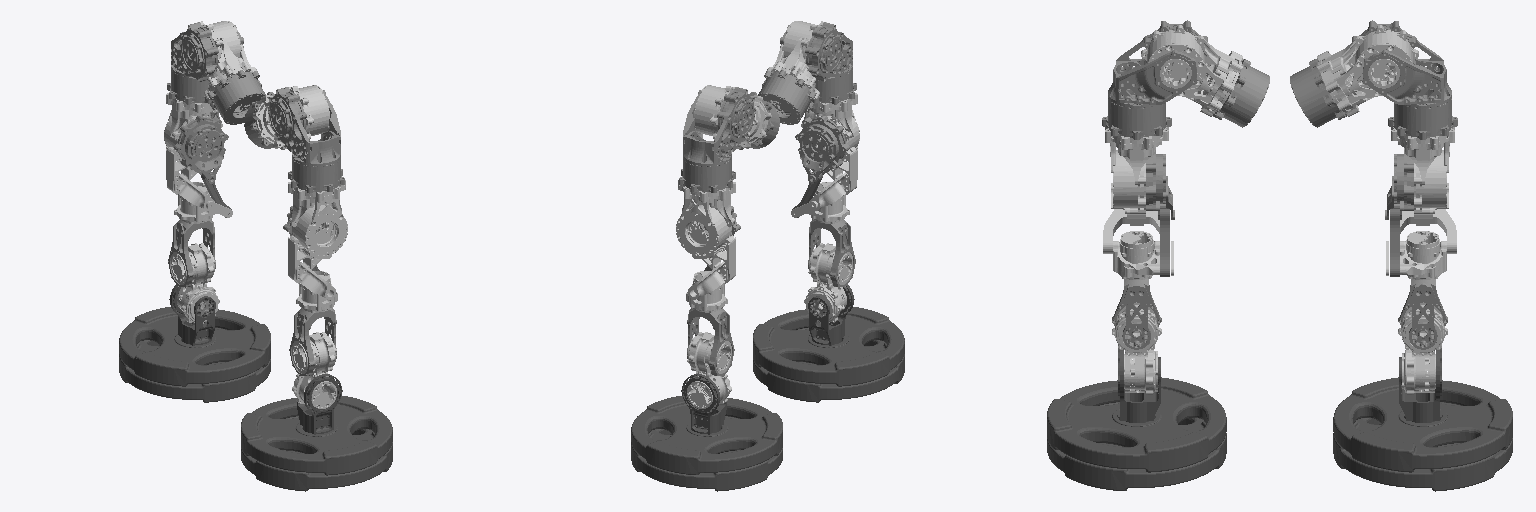
--- Facts derived from the render (not from the file) ---
3 views of the same robot in one strip: view 1: azimuth 30°, elevation 25°; view 2: azimuth 150°, elevation 25°; view 3: azimuth 270°, elevation 25° (orthographic).
Robot: raipal_stub-10 — 30 links, 29 joints (18 revolute, 11 fixed); root link world; default pose: every joint at zero.
Links seen in each view (by area): view 1: R_stub, L_stub, R_shoulder, R_humerus, L_shoulder, L_humerus, L_elb_input, R_carpal, L_carpal, L_base, R_collar, L_collar (+5 smaller); view 2: L_stub, R_stub, L_shoulder, L_humerus, R_shoulder, R_humerus, R_elb_input, L_carpal, R_carpal, R_base, L_collar, R_collar (+5 smaller); view 3: L_stub, R_stub, L_shoulder, R_shoulder, R_collar, L_collar, R_humerus, L_humerus, R_carpal, L_carpal, R_ulna, L_ulna (+8 smaller).
Boxes of the visible links, left/top/right/bottom form: R_stub: left=241, top=374, right=392, bottom=491; L_stub: left=119, top=285, right=270, bottom=402; R_shoulder: left=268, top=87, right=344, bottom=193; R_humerus: left=288, top=180, right=347, bottom=299; L_shoulder: left=167, top=22, right=243, bottom=104; L_humerus: left=164, top=93, right=222, bottom=210; L_elb_input: left=174, top=116, right=228, bottom=183; R_carpal: left=292, top=332, right=336, bottom=408; L_carpal: left=171, top=243, right=219, bottom=323; L_base: left=208, top=70, right=265, bottom=124; R_collar: left=252, top=85, right=329, bottom=148; L_collar: left=197, top=21, right=256, bottom=100; L_stub: left=631, top=374, right=782, bottom=491; R_stub: left=753, top=285, right=904, bottom=402; L_shoulder: left=679, top=87, right=755, bottom=192; L_humerus: left=676, top=180, right=735, bottom=299; R_shoulder: left=780, top=22, right=856, bottom=104; R_humerus: left=801, top=93, right=859, bottom=210; R_elb_input: left=795, top=116, right=849, bottom=183; L_carpal: left=687, top=332, right=731, bottom=408; R_carpal: left=804, top=243, right=852, bottom=323; R_base: left=758, top=70, right=815, bottom=124; L_collar: left=694, top=85, right=771, bottom=148; R_collar: left=767, top=21, right=826, bottom=100; L_stub: left=1333, top=348, right=1512, bottom=491; R_stub: left=1047, top=348, right=1226, bottom=490; L_shoulder: left=1352, top=20, right=1457, bottom=139; R_shoulder: left=1102, top=20, right=1207, bottom=139; R_collar: left=1141, top=25, right=1242, bottom=116; L_collar: left=1317, top=25, right=1418, bottom=116; R_humerus: left=1103, top=127, right=1168, bottom=253; L_humerus: left=1391, top=127, right=1456, bottom=253; R_carpal: left=1112, top=303, right=1161, bottom=394; L_carpal: left=1398, top=303, right=1447, bottom=394; R_ulna: left=1113, top=231, right=1173, bottom=279; L_ulna: left=1386, top=231, right=1446, bottom=279.
Bounding box of the posed robot: 0.276 × 0.716 × 0.7385 m (x, y, z).
Meshes: 21 distinct files referenced, 22 mesh visuals loaded (21 binary STL).

URDF robot description (raipal_stub-10):
<?xml version="1.0" encoding="utf-8"?>
<robot name="raipal_stub-10">
  <!-- [URDF-WRITER] Created with urdf-writer script (by CHH) on 2026-01-27 21:55:36.760560-->

  <!-- [URDF-WRITER] from module [_fixed-base] -->

  <!-- this link makes the robot fixed-base in RAISIM -->
  <link name="world"></link>

  <link name="base"></link>

  <joint name="base_fix" type="fixed">
    <origin xyz="0 0 0.8" rpy="0 0 0"/>
    <parent link="world" />
    <child link="base" />
    <axis xyz="0 0 0" />
  </joint>


  <!-- [URDF-WRITER] from module [raipal_R] -->

  <link name="R_base">
    <!-- CHH / 2025-09-01-20:14 -->
    <!-- link name: [R_base]-->
    <!-- frame: [R0_base]-->
    <inertial>
      <origin 
        xyz="-0.00013000 -0.06389000 -0.05559000"
        rpy="0 0 0" />
      <mass value="0.79658000" />
      <inertia
          ixx="0.00074742"
          ixy="1.892780e-6"
          ixz="-1.179560e-6"
          iyy="0.00098187"
          iyz="-0.00013334"
          izz="0.00082394" />
    </inertial>
    <visual>
      <origin
        xyz="0 0 0"
        rpy="0 0 0" />
      <geometry>
        <mesh filename="../meshes/R_base.STL" />
      </geometry>
      <material name="">
        <color rgba=".6 .6 .6 1" />
      </material>
    </visual>
    <!--<collision>
      <origin
        xyz="0 0 0"
        rpy="0 0 0" />
      <geometry>
        <mesh filename="../meshes/R_base.STL" />
      </geometry>
    </collision>-->
  </link>

  <joint name="R_fix" type="fixed">
    <origin xyz="0 0 0" rpy="0 0 0"/>
    <parent link="base" />
    <child link="R_base" />
    <axis xyz="0 0 0" />
  </joint>

  <link name="R_collar">
    <!-- CHH / 2025-09-01-20:14 -->
    <!-- link name: [R_collar]-->
    <!-- frame: [R1_flexion]-->
    <inertial>
      <origin 
        xyz="0.00471000 -1.000000e-5 0.10057000"
        rpy="0 0 0" />
      <mass value="1.72283000" />
      <inertia
          ixx="0.00466072"
          ixy="5.127800e-7"
          ixz="-0.00028338"
          iyy="0.00434837"
          iyz="8.010400e-7"
          izz="0.00167296" />
    </inertial>
    <visual>
      <origin
        xyz="0 0 0"
        rpy="0 0 0" />
      <geometry>
        <mesh filename="../meshes/R_collar.STL" />
      </geometry>
      <material name="">
        <color rgba="0.8 0.8 0.8 1" />
      </material>
    </visual>
    <!--<collision>
      <origin
        xyz="0 0 0"
        rpy="0 0 0" />
      <geometry>
        <mesh filename="../meshes/R_collar.STL" />
      </geometry>
    </collision>-->
  </link>

  <joint name="R1_flexion" type="revolute"> <!--[0]-->
    <origin
      xyz="0 -0.037198 -0.0709"
      rpy="1.0472 0 0" />
    <parent link="R_base" />
    <child link="R_collar" />
    <axis
      xyz="0 0 1" />
    <limit
      lower="-1.57"
      upper="3.14"
      effort="181"
      velocity="13.9" />
    <dynamics rotor_inertia = "0.0576402034658611" /> <!-- CHH / 2025-09-01-20:30-->
  </joint>

  <link name="R_shoulder">
    <!-- CHH / 2025-09-01-20:14 -->
    <!-- link name: [R_shoulder]-->
    <!-- frame: [R2_adduction]-->
    <inertial>
      <origin 
        xyz="-0.03309000 0.04277000 0.04408000"
        rpy="0 0 0" />
      <mass value="1.92988000" />
      <inertia
          ixx="0.00554587"
          ixy="0.00224326"
          ixz="-0.00046924"
          iyy="0.00422168"
          iyz="0.00058524"
          izz="0.00699049" />
    </inertial>
    <visual>
      <origin
        xyz="0 0 0"
        rpy="0 0 0" />
      <geometry>
        <mesh filename="../meshes/R_shoulder.STL" />
      </geometry>
      <material name="">
        <color rgba="0.6 0.6 0.6 1" />
      </material>
    </visual>
    <!--<collision>
      <origin
        xyz="0 0 0"
        rpy="0 0 0" />
      <geometry>
        <mesh filename="../meshes/R_shoulder.STL" />
      </geometry>
    </collision>-->
  </link>

  <joint name="R2_adduction" type="revolute"> <!--[1]-->
    <origin
      xyz="0.0373 0 0.1418"
      rpy="-1.5707963267949 1.0472 1.5707963267949" />
    <parent link="R_collar" />
    <child link="R_shoulder" />
    <axis
      xyz="0 0 -1" />
    <limit
      lower="-2.618"
      upper="0.488"
      effort="181"
      velocity="13.9" />
    <dynamics rotor_inertia = "0.0576402034658611" /> <!-- CHH / 2025-09-01-20:30-->
  </joint>

  <link name="R_humerus">
    <!-- CHH / 2025-09-01-20:14 -->
    <!-- link name: [R_humerus]-->
    <!-- frame: [R3_rotation]-->
    <inertial>
      <origin 
        xyz="-0.00369000 0.00351000 0.11625000"
        rpy="0 0 0" />
      <mass value="1.96262000" />
      <inertia
          ixx="0.00777442"
          ixy="-1.197057e-5"
          ixz="0.00065917"
          iyy="0.00822155"
          iyz="-0.00015972"
          izz="0.00201683" />
    </inertial>
    <visual>
      <origin
        xyz="0 0 0"
        rpy="0 0 0" />
      <geometry>
        <mesh filename="../meshes/R_humerus.STL" />
      </geometry>
      <material name="">
        <color rgba="0.8 0.8 0.8 1" />
      </material>
    </visual>
    <!--<collision>
      <origin
        xyz="0 0 0"
        rpy="0 0 0" />
      <geometry>
        <mesh filename="../meshes/R_humerus.STL" />
      </geometry>
    </collision>-->
  </link>

  <joint name="R3_rotation" type="revolute"> <!--[2]-->
    <origin
      xyz="-0.06 0.06025 0.0373"
      rpy="-1.5707963267949 1.5707963267949 0" />
    <parent link="R_shoulder" />
    <child link="R_humerus" />
    <axis
      xyz="0 0 -1" />
    <limit
      lower="-3.14"
      upper="3.14"
      effort="181"
      velocity="13.9" />
    <dynamics rotor_inertia = "0.0576402034658611" /> <!-- CHH / 2025-09-01-20:30-->
  </joint>

  <link name="R_elb_input">
    <!-- CHH / 2025-09-01-20:14 -->
    <!-- link name: [R_elb_input]-->
    <!-- frame: [R4a_elbow_power]-->
    <inertial>
      <origin 
        xyz="-2.000000e-5 0.00335000 0.05897000"
        rpy="0 0 0" />
      <mass value="0.83412000" />
      <inertia
          ixx="0.00071114"
          ixy="7.660000e-7"
          ixz="-9.255500e-7"
          iyy="0.00059983"
          iyz="-5.504818e-5"
          izz="0.00080767" />
    </inertial>
    <visual>
      <origin
        xyz="0 0 0"
        rpy="0 0 0" />
      <geometry>
        <mesh filename="../meshes/R_elb_input.STL" />
      </geometry>
      <material name="">
        <color rgba="0.6 0.6 0.6 1" />
      </material>
    </visual>
    <!--<collision>
      <origin
        xyz="0 0 0"
        rpy="0 0 0" />
      <geometry>
        <mesh filename="../meshes/R_elb_input.STL" />
      </geometry>
    </collision>-->
  </link>

  <joint name="R4a_elbow_power" type="revolute"> <!--[3]-->
    <origin
      xyz="0 0.0373 0.1418"
      rpy="1.5707963267949 0 0" />
    <parent link="R_humerus" />
    <child link="R_elb_input" />
    <axis
      xyz="0 0 1" />
    <limit
      lower="0"
      upper="1.556"
      effort="181"
      velocity="13.9" />
    <dynamics rotor_inertia = "0.0576402034658611" /> <!-- CHH / 2025-09-01-20:30-->
  </joint>

  <link name="R_elb_bar">
    <!-- CHH / 2025-09-01-20:14 -->
    <!-- link name: [R_elb_bar]-->
    <!-- frame: [R4b_elbow_bar_input]-->
    <inertial>
      <origin 
        xyz="0.04274000 0.00159000 -4.000000e-5"
        rpy="0 0 0" />
      <mass value="0.05314000" />
      <inertia
          ixx="2.335610e-6"
          ixy="0.0"
          ixz="0.0"
          iyy="6.149582e-5"
          iyz="-3.110000e-9"
          izz="6.199993e-5" />
    </inertial>
    <visual>
      <origin
        xyz="0 0 0"
        rpy="0 0 0" />
      <geometry>
        <mesh filename="../meshes/R_elb_bar.STL" />
      </geometry>
      <material name="">
        <color rgba="0.5 0.5 0.5 1" />
      </material>
    </visual>
    <!--<collision>
      <origin
        xyz="0 0 0"
        rpy="0 0 0" />
      <geometry>
        <mesh filename="../meshes/R_elb_bar.STL" />
      </geometry>
    </collision>-->
  </link>

  <joint name="R4b_elbow_bar_input" type="revolute"> <!--[4-unpowered]-->
    <origin
      xyz="0.00134978286029327 0.0599848154638326 0.0812119041053838"
      rpy="0 0 1.12941902735751" />
    <parent link="R_elb_input" />
    <child link="R_elb_bar" />
    <axis
      xyz="0 0 -1" />
    <limit
      lower="0"
      upper="1.802"
      effort="0"
      velocity="100" />
  </joint>

  <link name="R_ulna">
    <!-- CHH / 2025-09-01-20:14 -->
    <!-- link name: [R_ulna]-->
    <!-- frame: [R4_elbow]-->
    <inertial>
      <origin 
        xyz="0.00533000 0.01576000 -0.03891000"
        rpy="0 0 0" />
      <mass value="0.36947000" />
      <inertia
          ixx="0.00032310"
          ixy="-1.385696e-5"
          ixz="-4.244104e-5"
          iyy="0.00036383"
          iyz="-5.919040e-6"
          izz="0.00020708" />
    </inertial>
    <visual>
      <origin
        xyz="0 0 0"
        rpy="0 0 0" />
      <geometry>
        <mesh filename="../meshes/R_ulna.STL" />
      </geometry>
      <material name="">
        <color rgba="0.8 0.8 0.8 1" />
      </material>
    </visual>
    <!--<collision>
      <origin
        xyz="0 0 0"
        rpy="0 0 0" />
      <geometry>
        <mesh filename="../meshes/R_ulna.STL" />
      </geometry>
    </collision>-->
  </link>

  <joint name="R4_elbow" type="revolute"> <!--[5-unpowered]-->
    <origin
      xyz="0 -0.0439119041053754 0.25475"
      rpy="1.5707963267949 0 0" />
    <parent link="R_humerus" />
    <child link="R_ulna" />
    <axis
      xyz="0 0 -1" />
    <limit
      lower="0"
      upper="2.2689"
      effort="0"
      velocity="100" />
  </joint>

  <link name="R_radius">
    <!-- CHH / 2025-09-01-20:14 -->
    <inertial>
      <origin 
        xyz="0.00151000 0.0 0.10290000"
        rpy="0 0 0" />
      <mass value="0.42307000" />
      <inertia
          ixx="0.00112662"
          ixy="-1.975000e-8"
          ixz="-5.589578e-5"
          iyy="0.00120471"
          iyz="1.556000e-8"
          izz="0.00024138" />
    </inertial>
    <visual>
      <origin
        xyz="0 0 0"
        rpy="0 0 0" />
      <geometry>
        <mesh filename="../meshes/R_radius.STL" />
      </geometry>
      <material name="">
        <color rgba="0.6 0.6 0.6 1" />
      </material>
    </visual>
    <!--</collision>
      <origin
        xyz="0 0 0"
        rpy="0 0 0" />
      <geometry>
        <mesh filename="../meshes/R_radius.STL" />
      </geometry>
    </collision>-->
  </link>

  <joint name="R5_roll" type="revolute">  <!--[6]-->
    <origin
      xyz="0 -0.0135819531869474 -0.0439119041053754"
      rpy="-1.5707963267949 0 0" />
    <parent link="R_ulna" />
    <child link="R_radius" />
    <axis
      xyz="0 0 -1" />
    <limit
      lower="-1.57"
      upper="1.57"
      effort="12.61"
      velocity="53.8" />
    <dynamics rotor_inertia = "0.000540543349430043" /> <!-- CHH / 2025-09-01-20:30-->
  </joint>

  <link name="R_carpal">
    <!-- CHH / 2025-09-01-20:14 -->
    <inertial>
      <origin 
        xyz="-0.00117000 0.03421000 0.02964000"
        rpy="0 0 0" />
      <mass value="0.67981000" />
      <inertia
          ixx="0.00128813"
          ixy="3.134577e-5"
          ixz="3.268690e-6"
          iyy="0.00040998"
          iyz="-9.323146e-5"
          izz="0.00126953" />
    </inertial>
    <visual>
      <origin
        xyz="0 0 0"
        rpy="0 0 0" />
      <geometry>
        <mesh filename="../meshes/R_carpal.STL" />
      </geometry>
      <material name="">
        <color rgba="0.8 0.8 0.8 1" />
      </material>
    </visual>
    <!--</collision>
      <origin
        xyz="0 0 0"
        rpy="0 0 0" />
      <geometry>
        <mesh filename="../meshes/R_carpal.STL" />
      </geometry>
    </collision>-->
  </link>

  <joint name="R6_pitch" type="revolute">  <!--[7]-->
    <origin
      xyz="-0.0337 0 0.153581953186935"
      rpy="1.5707963267949 0 1.5707963267949" />
    <parent link="R_radius" />
    <child link="R_carpal" />
    <axis
      xyz="0 0 1" />
    <limit
      lower="-2.0944"
      upper="2.0944"
      effort="12.61"
      velocity="53.8" />
    <dynamics rotor_inertia = "0.000540543349430043" /> <!-- CHH / 2025-09-01-20:30-->
  </joint>

  <link name="R_ee">
    <!-- CHH / 2025-09-01-20:14 -->
    <inertial>
      <origin 
        xyz="0.0 0.0 0.04531000"
        rpy="0 0 0" />
      <mass value="0.13143000" />
      <inertia
          ixx="3.339173e-5"
          ixy="0.0"
          ixz="0.0"
          iyy="3.339173e-5"
          iyz="0.0"
          izz="4.133016e-5" />
    </inertial>
    <visual>
      <origin
        xyz="0 0 0"
        rpy="0 0 0" />
      <geometry>
        <mesh filename="../meshes/R_ee.STL" />
      </geometry>
      <material name="">
        <color rgba="0.6 0.6 0.6 1" />
      </material>
    </visual>
    <!--</collision>
      <origin
        xyz="0 0 0"
        rpy="0 0 0" />
      <geometry>
        <mesh filename="../meshes/R_ee.STL" />
      </geometry>
    </collision>-->
  </link>

  <joint name="R7_yaw" type="revolute">  <!--[8]-->
    <origin
      xyz="0.0264 0.073 0.0337"
      rpy="0 -1.5707963267949 0" />
    <parent link="R_carpal" />
    <child link="R_ee" />
    <axis
      xyz="0 0 -1" />
    <limit
      lower="-1.57079"
      upper="1.57079"
      effort="12.61"
      velocity="53.8" />
    <dynamics rotor_inertia = "0.000540543349430043" /> <!-- CHH / 2025-09-01-20:30-->
  </joint>

  <!-- Imaginary links for loop closure -->
  <link name="R_loop_barside"></link>

  <joint name="R4cA_elbow_loop_bar" type="fixed">
    <origin
      xyz="0.0854747786370337 0 0"
      rpy="0 0 0" />
    <parent link="R_elb_bar" />
    <child link="R_loop_barside" />
    <axis
      xyz="0 0 1" />
    <!-- relaxed limits since others are constrained -->
    <limit
      lower="-3.14"
      upper="3.14"
      effort="0"
      velocity="100" />
  </joint>

  <link name="R_loop_ulnaside"></link>

  <joint name="R4cB_elbow_loop_ulna_fixed" type="fixed">
    <origin
      xyz="0.0378633410992504 0.0243180468130526 0"
      rpy="0 0 1.12941902735751" />
    <parent link="R_ulna" />
    <child link="R_loop_ulnaside" />
    <axis
      xyz="0 0 0" />
  </joint>

  
  <!-- [URDF-WRITER] from module [stub-10_R] -->
  <link name="R_stub">
    <!-- CHH / 2025-10-17-16:12 -->
    <!-- link name: [stub-10]-->
    <!-- frame: [RE_end-effector]-->
    <inertial>
      <origin 
        xyz="4.000000e-5 -0.10515000 0.02631000"
        rpy="0 0 0" />
      <mass value="10.52298000" />
      <inertia
          ixx="0.05836641"
          ixy="1.193012e-5"
          ixz="-3.170800e-7"
          iyy="0.10652337"
          iyz="0.00011810"
          izz="0.05832640" />
    </inertial>
    <visual>
      <origin
        xyz="0 0 0"
        rpy="0 0 0" />
      <geometry>
        <mesh filename="../meshes/stub_10.STL" />
      </geometry>
      <material name="">
        <color rgba="0.4 0.4 0.4 1" />
      </material>
    </visual>
  </link>

  <joint name="RE_end_effector_fixed" type="fixed">
    <origin
      xyz="0 0 0"
      rpy="0 0 3.141592" />
    <parent link="R_ee" />
    <child link="R_stub" />
    <axis
      xyz="0 0 0" />
  </joint>


  <link name="R_stub-tip"></link>

  <joint name="RE_tip_fixed" type="fixed">
    <origin
      xyz="0 -0.157 0.0264"
      rpy="-1.5708 0 3.141592" />
    <parent link="R_stub" />
    <child link="R_stub-tip" />
    <axis
      xyz="0 0 0" />
  </joint>
  <!-- [URDF-WRITER] from module [raipal_L] -->

  <link name="L_base">
    <!-- CHH / 2025-09-01-20:14 -->
    <!-- mirrored from [L_base] (frame: R0_base)-->
    <inertial>
      <origin 
        xyz="-0.00013000 0.06389000 -0.05559000"
        rpy="0 0 0" />
      <mass value="0.79658000" />
      <inertia
          ixx="0.00074742"
          ixy="-1.892780e-6"
          ixz="-1.179560e-6"
          iyy="0.00098187"
          iyz="0.00013334"
          izz="0.00082394" />
    </inertial>
    <visual>
      <origin
        xyz="0 0 0"
        rpy="0 0 0" />
      <geometry>
        <mesh filename="../meshes/L_base.STL" />
      </geometry>
      <material name="">
        <color rgba=".6 .6 .6 1" />
      </material>
    </visual>
    <!--</collision>
      <origin
        xyz="0 0 0"
        rpy="0 0 0" />
      <geometry>
        <mesh filename="../meshes/L_base.STL" />
      </geometry>
    </collision>-->
  </link>

  <joint name="L_fix" type="fixed">
    <origin xyz="0 0 0" rpy="0 0 0"/>
    <parent link="base" />
    <child link="L_base" />
    <axis xyz="0 0 0" />
  </joint>

  <link name="L_collar">
    <!-- CHH / 2025-09-01-20:14 -->
    <!-- mirrored from [L_collar] (frame: R1_flexion)-->
    <inertial>
      <origin 
        xyz="0.00471000 1.000000e-5 0.10057000"
        rpy="0 0 0" />
      <mass value="1.72283000" />
      <inertia
          ixx="0.00466072"
          ixy="-5.127800e-7"
          ixz="-0.00028338"
          iyy="0.00434837"
          iyz="-8.010400e-7"
          izz="0.00167296" />
    </inertial>
    <visual>
      <origin
        xyz="0 0 0"
        rpy="0 0 0" />
      <geometry>
        <mesh filename="../meshes/L_collar.STL" />
      </geometry>
      <material name="">
        <color rgba="0.8 0.8 0.8 1" />
      </material>
    </visual>
    <!--</collision>
      <origin
        xyz="0 0 0"
        rpy="0 0 0" />
      <geometry>
        <mesh filename="../meshes/L_collar.STL" />
      </geometry>
    </collision>-->
  </link>

  <joint name="L1_flexion" type="revolute"> <!--[0]-->
    <origin
      xyz="0 0.037198 -0.0709"
      rpy="-1.0472 0 0" />
    <parent link="L_base" />
    <child link="L_collar" />
    <axis
      xyz="0 0 -1" />
    <limit
      lower="-1.57"
      upper="3.14"
      effort="181"
      velocity="13.9" />
    <dynamics rotor_inertia = "0.0576402034658611" />
    <!-- Calculated by CHH on 2025-09-01-20:14-->  
  </joint>

  <link name="L_shoulder">
    <!-- CHH / 2025-09-01-20:14 -->
    <!-- mirrored from [L_shoulder] (frame: R2_adduction)-->
    <inertial>
      <origin 
        xyz="-0.03309000 -0.04277000 0.04408000"
        rpy="0 0 0" />
      <mass value="1.92988000" />
      <inertia
          ixx="0.00554587"
          ixy="-0.00224326"
          ixz="-0.00046924"
          iyy="0.00422168"
          iyz="-0.00058524"
          izz="0.00699049" />
    </inertial>
    <visual>
      <origin
        xyz="0 0 0"
        rpy="0 0 0" />
      <geometry>
        <mesh filename="../meshes/L_shoulder.STL" />
      </geometry>
      <material name="">
        <color rgba="0.6 0.6 0.6 1" />
      </material>
    </visual>
    <!--</collision>
      <origin
        xyz="0 0 0"
        rpy="0 0 0" />
      <geometry>
        <mesh filename="../meshes/L_shoulder.STL" />
      </geometry>
    </collision>-->
  </link>

  <joint name="L2_adduction" type="revolute"> <!--[1]-->
    <origin
      xyz="0.0373 0 0.1418"
      rpy="1.5707963267949 1.0472 -1.5707963267949" />
    <parent link="L_collar" />
    <child link="L_shoulder" />
    <axis
      xyz="0 0 1" />
    <limit
      lower="-2.618"
      upper="0.488"
      effort="181"
      velocity="13.9" />
    <dynamics rotor_inertia = "0.0576402034658611" /> <!-- CHH / 2025-09-01-20:30-->
  </joint>

  <link name="L_humerus">
    <!-- CHH / 2025-09-01-20:14 -->
    <!-- mirrored from [L_humerus] (frame: R3_rotation)-->
    <inertial>
      <origin 
        xyz="-0.00369000 -0.00351000 0.11625000"
        rpy="0 0 0" />
      <mass value="1.96262000" />
      <inertia
          ixx="0.00777442"
          ixy="1.197057e-5"
          ixz="0.00065917"
          iyy="0.00822155"
          iyz="0.00015972"
          izz="0.00201683" />
    </inertial>
    <visual>
      <origin
        xyz="0 0 0"
        rpy="0 0 0" />
      <geometry>
        <mesh filename="../meshes/L_humerus.STL" />
      </geometry>
      <material name="">
        <color rgba="0.8 0.8 0.8 1" />
      </material>
    </visual>
    <!--</collision>
      <origin
        xyz="0 0 0"
        rpy="0 0 0" />
      <geometry>
        <mesh filename="../meshes/L_humerus.STL" />
      </geometry>
    </collision>-->
  </link>

  <joint name="L3_rotation" type="revolute"> <!--[2]-->
    <origin
      xyz="-0.06 -0.06025 0.0373"
      rpy="1.5707963267949 1.5707963267949 0" />
    <parent link="L_shoulder" />
    <child link="L_humerus" />
    <axis
      xyz="0 0 1" />
    <limit
      lower="-3.14"
      upper="3.14"
      effort="181"
      velocity="13.9" />
    <dynamics rotor_inertia = "0.0576402034658611" /> <!-- CHH / 2025-09-01-20:30-->
  </joint>

  <link name="L_elb_input">
    <!-- CHH / 2025-09-01-20:14 -->
    <!-- mirrored from [L_elb_input] (frame: R4a_elbow_power)-->
    <inertial>
      <origin 
        xyz="-2.000000e-5 -0.00335000 0.05897000"
        rpy="0 0 0" />
      <mass value="0.83412000" />
      <inertia
          ixx="0.00071114"
          ixy="-7.660000e-7"
          ixz="-9.255500e-7"
          iyy="0.00059983"
          iyz="5.504818e-5"
          izz="0.00080767" />
    </inertial>
    <visual>
      <origin
        xyz="0 0 0"
        rpy="0 0 0" />
      <geometry>
        <mesh filename="../meshes/L_elb_input.STL" />
      </geometry>
      <material name="">
        <color rgba="0.6 0.6 0.6 1" />
      </material>
    </visual>
    <!--</collision>
      <origin
        xyz="0 0 0"
        rpy="0 0 0" />
      <geometry>
        <mesh filename="../meshes/L_elb_input.STL" />
      </geometry>
    </collision>-->
  </link>

  <joint name="L4a_elbow_power" type="revolute"> <!--[3]-->
    <origin
      xyz="0 -0.0373 0.1418"
      rpy="-1.5707963267949 0 0" />
    <parent link="L_humerus" />
    <child link="L_elb_input" />
    <axis
      xyz="0 0 -1" />
    <limit
      lower="0"
      upper="1.556"
      effort="181"
      velocity="13.9" />
    <dynamics rotor_inertia = "0.0576402034658611" /> <!-- CHH / 2025-09-01-20:30-->
  </joint>

  <link name="L_elb_bar">
    <!-- CHH / 2025-09-01-20:14 -->
    <!-- mirrored from [L_elb_bar] (frame: R4b_elbow_bar_input)-->
    <inertial>
      <origin 
        xyz="0.04274000 -0.00159000 -4.000000e-5"
        rpy="0 0 0" />
      <mass value="0.05314000" />
      <inertia
          ixx="2.335610e-6"
          ixy="0.0"
          ixz="0.0"
          iyy="6.149582e-5"
          iyz="3.110000e-9"
          izz="6.199993e-5" />
    </inertial>
    <visual>
      <origin
        xyz="0 0 0"
        rpy="0 0 0" />
      <geometry>
        <mesh filename="../meshes/L_elb_bar.STL" />
      </geometry>
      <material name="">
        <color rgba="0.5 0.5 0.5 1" />
      </material>
    </visual>
    <!--</collision>
      <origin
        xyz="0 0 0"
        rpy="0 0 0" />
      <geometry>
        <mesh filename="../meshes/L_elb_bar.STL" />
      </geometry>
    </collision>-->
  </link>

  <joint name="L4b_elbow_bar_input" type="revolute">  <!--[4-unpowered]-->
    <origin
      xyz="0.00134978286029327 -0.0599848154638326 0.0812119041053838"
      rpy="0 0 -1.12941902735751" />
    <parent link="L_elb_input" />
    <child link="L_elb_bar" />
    <axis
      xyz="0 0 1" />
    <limit
      lower="0"
      upper="1.802"
      effort="0"
      velocity="100" />
  </joint>

  <link name="L_ulna">
    <!-- CHH / 2025-09-01-20:14 -->
    <!-- mirrored from [L_ulna] (frame: R4_elbow)-->
    <inertial>
      <origin 
        xyz="0.00533000 -0.01576000 -0.03891000"
        rpy="0 0 0" />
      <mass value="0.36947000" />
      <inertia
          ixx="0.00032310"
          ixy="1.385696e-5"
          ixz="-4.244104e-5"
          iyy="0.00036383"
          iyz="5.919040e-6"
          izz="0.00020708" />
    </inertial>
    <visual>
      <origin
        xyz="0 0 0"
        rpy="0 0 0" />
      <geometry>
        <mesh filename="../meshes/L_ulna.STL" />
      </geometry>
      <material name="">
        <color rgba="0.8 0.8 0.8 1" />
      </material>
    </visual>
    <!--</collision>
      <origin
        xyz="0 0 0"
        rpy="0 0 0" />
      <geometry>
        <mesh filename="../meshes/L_ulna.STL" />
      </geometry>
    </collision>-->
  </link>

  <joint name="L4_elbow" type="revolute">  <!--[5-unpowered]-->
    <origin
      xyz="0 0.043912 0.25475"
      rpy="-1.5707963267949 0 0" />
    <parent link="L_humerus" />
    <child link="L_ulna" />
    <axis
      xyz="0 0 1" />
    <limit
      lower="0"
      upper="2.2689"
      effort="0"
      velocity="100" />
  </joint>

  <link name="L_radius">
    <!-- CHH / 2025-09-01-20:14 -->
    <!-- link name: [L_radius]-->
    <!-- frame: [L5_roll]-->
    <inertial>
      <origin 
        xyz="0.00151000 0.0 0.10290000"
        rpy="0 0 0" />
      <mass value="0.42307000" />
      <inertia
          ixx="0.00112662"
          ixy="1.975000e-8"
          ixz="-5.589578e-5"
          iyy="0.00120471"
          iyz="-1.556000e-8"
          izz="0.00024138" />
    </inertial>
    <visual>
      <origin
        xyz="0 0 0"
        rpy="0 0 0" />
      <geometry>
        <mesh filename="../meshes/L_radius.STL" />
      </geometry>
      <material name="">
        <color rgba="0.6 0.6 0.6 1" />
      </material>
    </visual>
    <!--<collision>
      <origin
        xyz="0 0 0"
        rpy="0 0 0" />
      <geometry>
        <mesh filename="../meshes/L_radius.STL" />
      </geometry>
    </collision>-->
  </link>

  <joint name="L5_roll" type="revolute"> <!--[6]-->
    <origin
      xyz="0 0.0135819531869474 -0.0439119041053754"
      rpy="1.5707963267949 0 0" />
    <parent link="L_ulna" />
    <child link="L_radius" />
    <axis
      xyz="0 0 1" />
    <limit
      lower="-1.57"
      upper="1.57"
      effort="12.61"
      velocity="53.8" />
    <dynamics rotor_inertia = "0.000540543349430043" /> <!-- CHH / 2025-09-01-20:30-->
  </joint>

  <link name="L_carpal">
    <!-- CHH / 2025-09-01-20:14 -->
    <!-- link name: [L_carpal]-->
    <!-- frame: [L6_pitch]-->
    <inertial>
      <origin 
        xyz="-0.00117000 -0.03421000 0.02964000"
        rpy="0 0 0" />
      <mass value="0.67981000" />
      <inertia
          ixx="0.00128813"
          ixy="-3.134577e-5"
          ixz="3.268690e-6"
          iyy="0.00040998"
          iyz="9.323146e-5"
          izz="0.00126953" />
    </inertial>
    <visual>
      <origin
        xyz="0 0 0"
        rpy="0 0 0" />
      <geometry>
        <mesh filename="../meshes/L_carpal.STL" />
      </geometry>
      <material name="">
        <color rgba="0.8 0.8 0.8 1" />
      </material>
    </visual>
    <!--<collision>
      <origin
        xyz="0 0 0"
        rpy="0 0 0" />
      <geometry>
        <mesh filename="../meshes/L_carpal.STL" />
      </geometry>
    </collision>-->
  </link>

  <joint name="L6_pitch" type="revolute"> <!--[7]-->
    <origin
      xyz="-0.0337 0 0.153581953186935"
      rpy="-1.5707963267949 0 -1.5707963267949" />
    <parent link="L_radius" />
    <child link="L_carpal" />
    <axis
      xyz="0 0 -1" />
    <limit
      lower="-2.0944"
      upper="2.0944"
      effort="12.61"
      velocity="53.8" />
    <dynamics rotor_inertia = "0.000540543349430043" /> <!-- CHH / 2025-09-01-20:30-->
  </joint>

  <link name="L_ee">
    <!-- CHH / 2025-09-01-20:14 -->
    <!-- link name: [L_ee]-->
    <!-- frame: [L7_yaw]-->
    <inertial>
      <origin 
        xyz="0.0 0.0 0.04531000"
        rpy="0 0 0" />
      <mass value="0.13143000" />
      <inertia
          ixx="3.339173e-5"
          ixy="0.0"
          ixz="0.0"
          iyy="3.339173e-5"
          iyz="0.0"
          izz="4.133016e-5" />
    </inertial>
    <visual>
      <origin
        xyz="0 0 0"
        rpy="0 0 0" />
      <geometry>
        <mesh filename="../meshes/L_ee.STL" />
      </geometry>
      <material name="">
        <color rgba="0.6 0.6 0.6 1" />
      </material>
    </visual>
    <!--<collision>
      <origin
        xyz="0 0 0"
        rpy="0 0 0" />
      <geometry>
        <mesh filename="../meshes/L_ee.STL" />
      </geometry>
    </collision>-->
  </link>

  <joint name="L7_yaw" type="revolute"> <!--[8]-->
    <origin
      xyz="0.0264 -0.073 0.0337"
      rpy="0 -1.5707963267949 0" />
    <parent link="L_carpal" />
    <child link="L_ee" />
    <axis
      xyz="0 0 1" />
    <limit
      lower="-1.57079"
      upper="1.57079"
      effort="12.61"
      velocity="53.8" />
    <dynamics rotor_inertia = "0.000540543349430043" /> <!-- CHH / 2025-09-01-20:30-->
  </joint>

  <!-- imaginary links for loop closure -->
  <link name="L_loop_barside"></link>

  <joint name="L4cA_elbow_loop_bar" type="fixed">
    <origin
      xyz="0.0854747786370337 0 0"
      rpy="0 0 0" />
    <parent link="L_elb_bar" />
    <child link="L_loop_barside" />
    <axis
      xyz="0 0 -1" />
    <limit
      lower="-3.14"
      upper="3.14"
      effort="0"
      velocity="100" />
  </joint>

  <link name="L_loop_ulnaside"></link>

  <joint name="L4cB_elbow_loop_ulna_fixed" type="fixed">
    <origin
      xyz="0.0378633410992504 -0.0243180468130526 0"
      rpy="0 0 -1.12941902735751" />
    <parent link="L_ulna" />
    <child link="L_loop_ulnaside" />
    <axis
      xyz="0 0 0" />
  </joint>

  

  <!-- [URDF-WRITER] from module [stub-10_L] -->
  <link name="L_stub">
    <!-- CHH / 2025-10-17-16:12 -->
    <!-- link name: [stub-10]-->
    <!-- frame: [LE_end-effector]-->
    <inertial>
      <origin 
        xyz="4.000000e-5 -0.10515000 0.02631000"
        rpy="0 0 0" />
      <mass value="10.52298000" />
      <inertia
          ixx="0.05836641"
          ixy="1.193012e-5"
          ixz="-3.170800e-7"
          iyy="0.10652337"
          iyz="0.00011810"
          izz="0.05832640" />
    </inertial>

    <visual>
      <origin
        xyz="0 0 0"
        rpy="0 0 0" />
      <geometry>
        <mesh filename="../meshes/stub_10.STL" />
      </geometry>
      <material name="">
        <color rgba="0.4 0.4 0.4 1" />
      </material>
    </visual>
  </link>

  <joint name="LE_end_effector_fixed" type="fixed">
    <origin
      xyz="0 0 0"
      rpy="0 0 0" />
    <parent link="L_ee" />
    <child link="L_stub" />
    <axis
      xyz="0 0 0" />
  </joint>

  <link name="L_stub-tip"></link>

  <joint name="LE_tip_fixed" type="fixed">
    <origin
      xyz="0 -0.157 0.0264"
      rpy="+1.5708 0 0" />
    <parent link="L_stub" />
    <child link="L_stub-tip" />
    <axis
      xyz="0 0 0" />
  </joint>
  <!-- [URDF-WRITER] merged constraints -->
  <constraints nominal_config="0 0 0 0 0 0 0 0 0 0 0 0 0 0 0 0 0 0 0 0 0 0 0 0 0 0 0 0 0 0 0 0 0 0 0 0 0 0 0 0 0 0">
    <pin body1="R_loop_barside" body2="R_loop_ulnaside" anchor="0.0 0.0 0.0"/>
    <pin body1="L_loop_barside" body2="L_loop_ulnaside" anchor="0.0 0.0 0.0"/>
  </constraints>

</robot>
